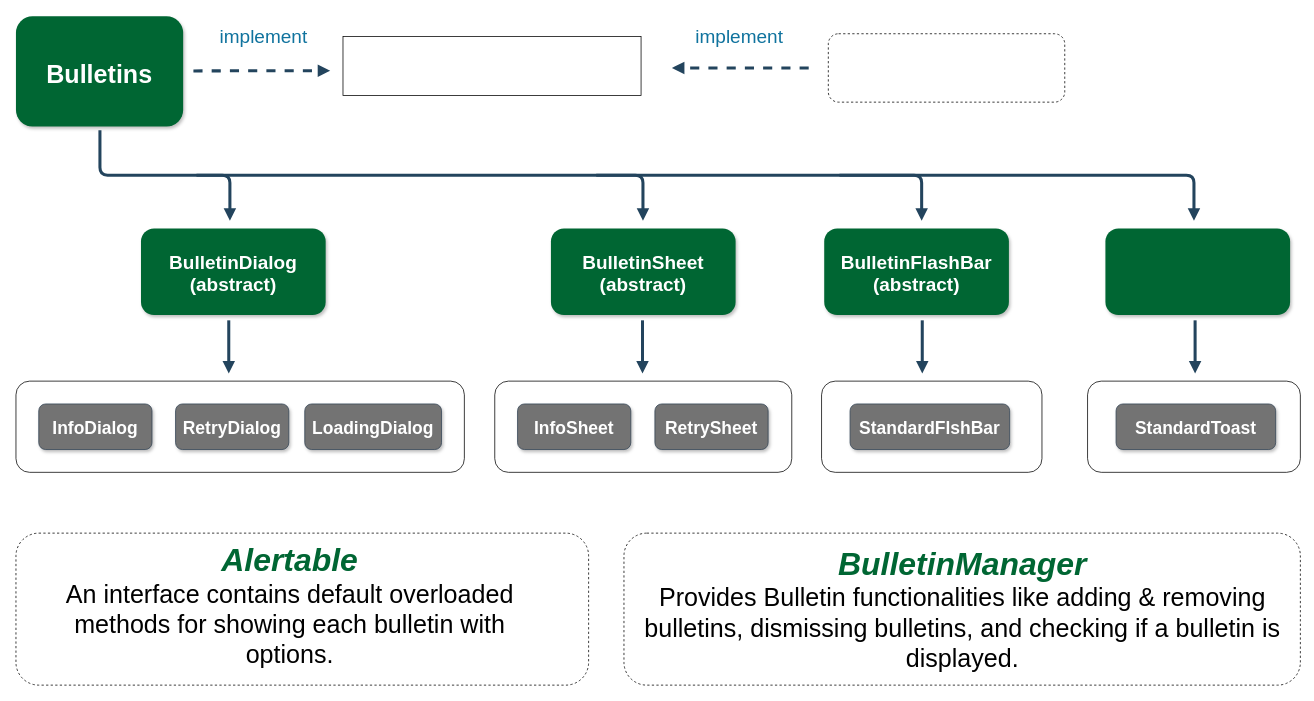
Some shapes in this 1314 by 701 pixel diagram are drawn without their labels. The centre of each missing label's shape, as x and y in pixels:
BulletinToast (abstract): the point at 1198,272
Custom Bulletins: the point at 946,67
interface Bulletin { .. }: the point at 491,65
